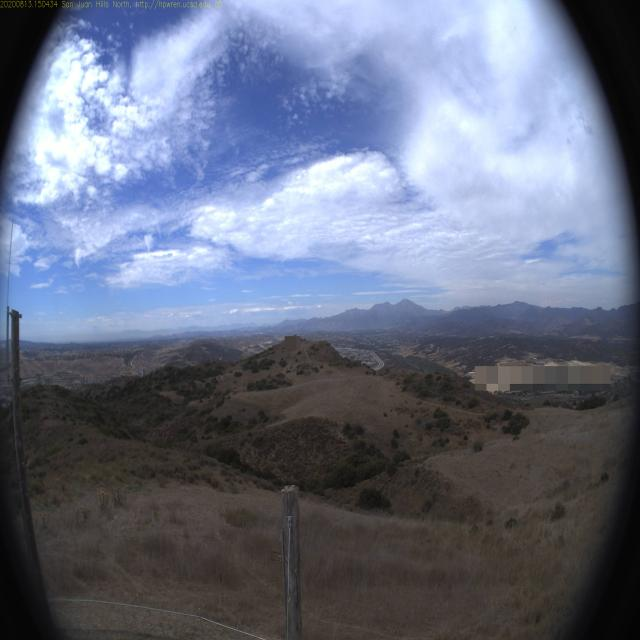smoke: (176, 325, 185, 337)
